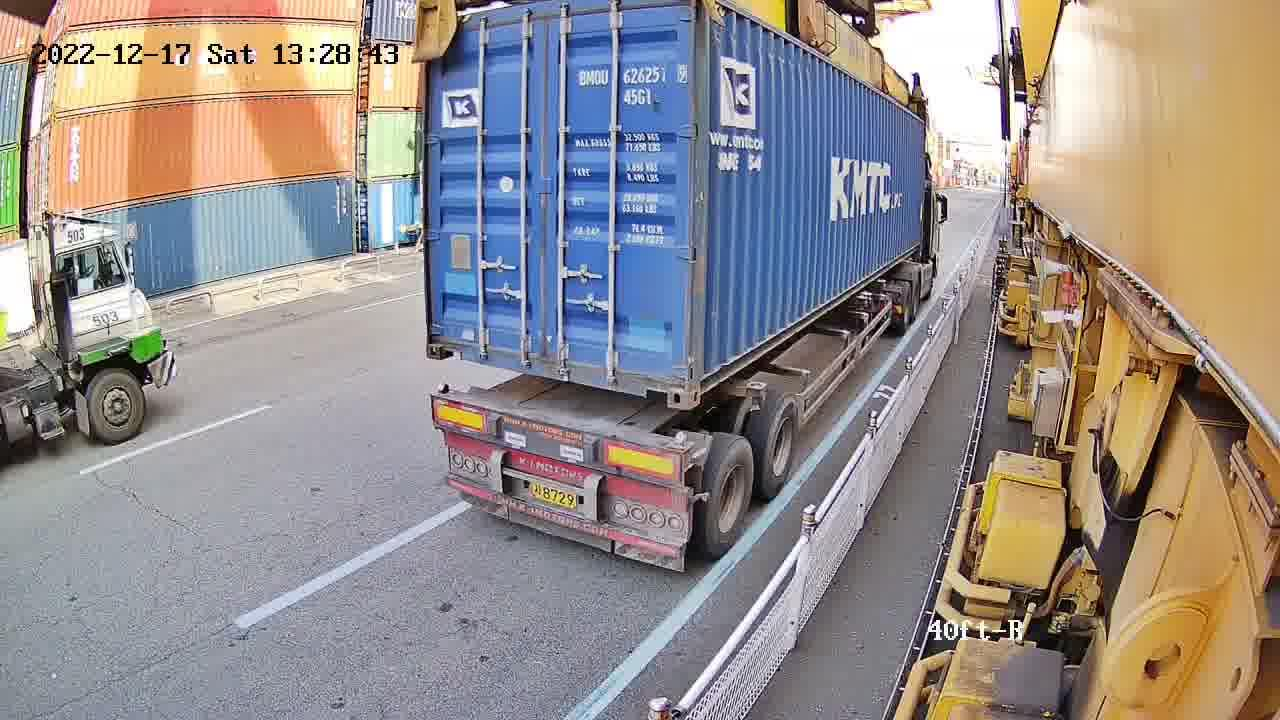Chassis: (436, 387, 701, 486)
Cone: (675, 430, 694, 474), (429, 384, 453, 400)
Hole_L: (688, 337, 721, 408), (426, 322, 470, 362)
Hole_R: (638, 359, 687, 411)
Tire: (703, 443, 753, 550), (761, 402, 799, 495)
